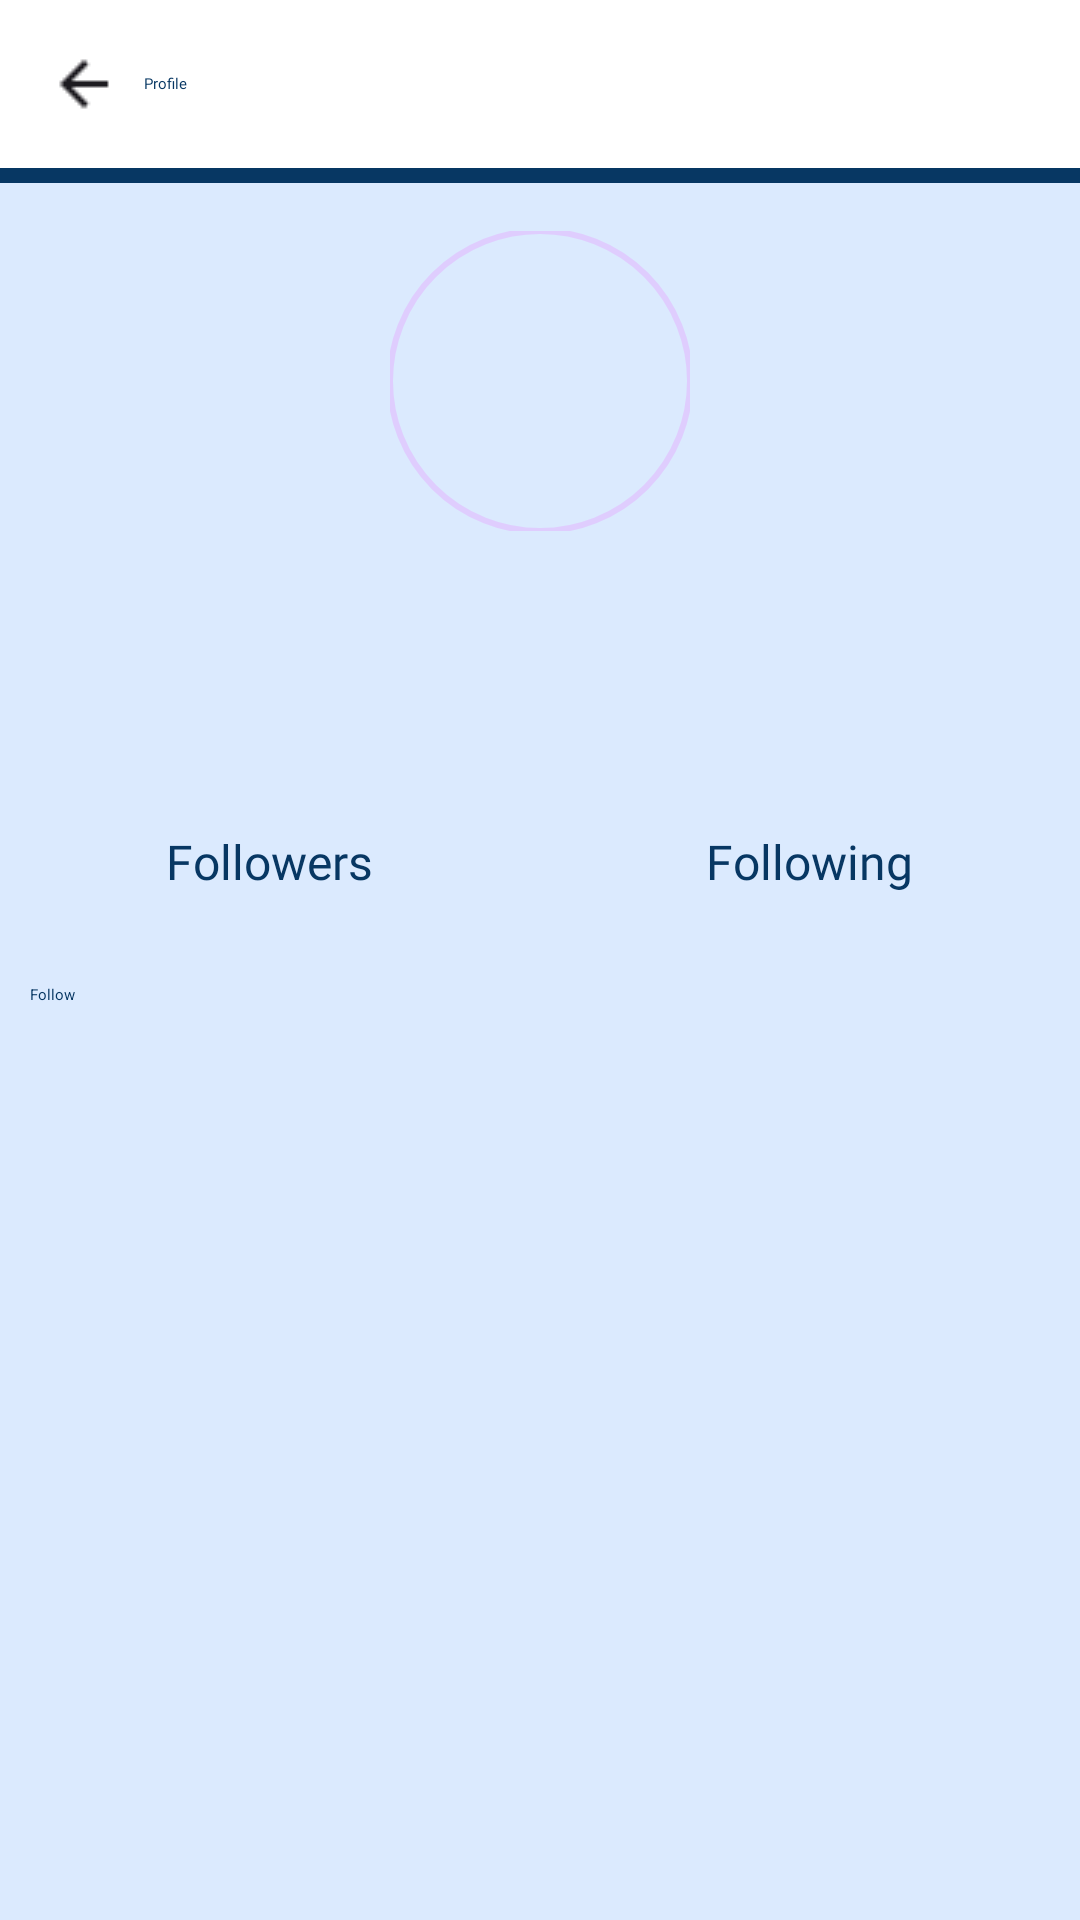

Named icons in this screenshot (1080*1920) and their bounding boxes, (x1, y1, x2, y2):
back: (59, 59, 109, 109)
